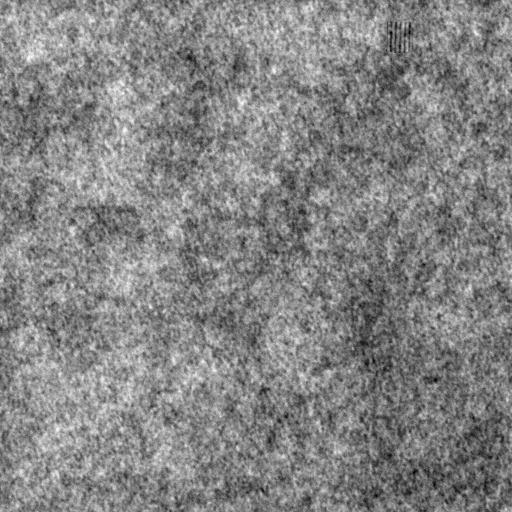impact: (384, 17, 415, 56)
